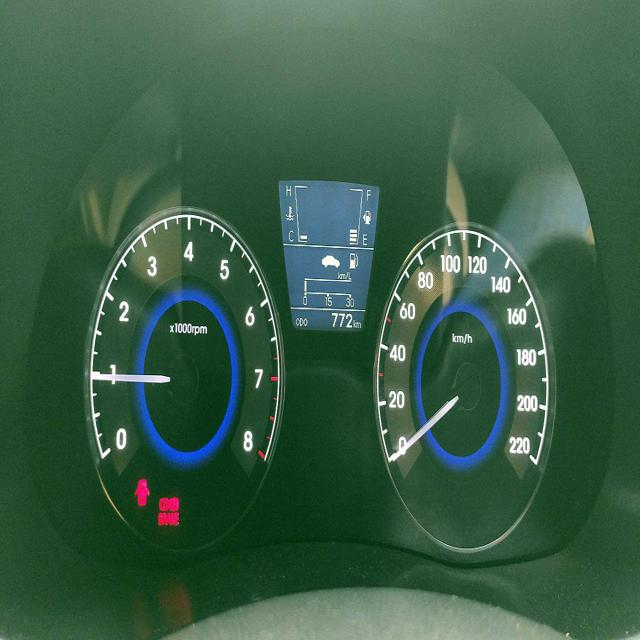odometer: (328, 308, 353, 333)
